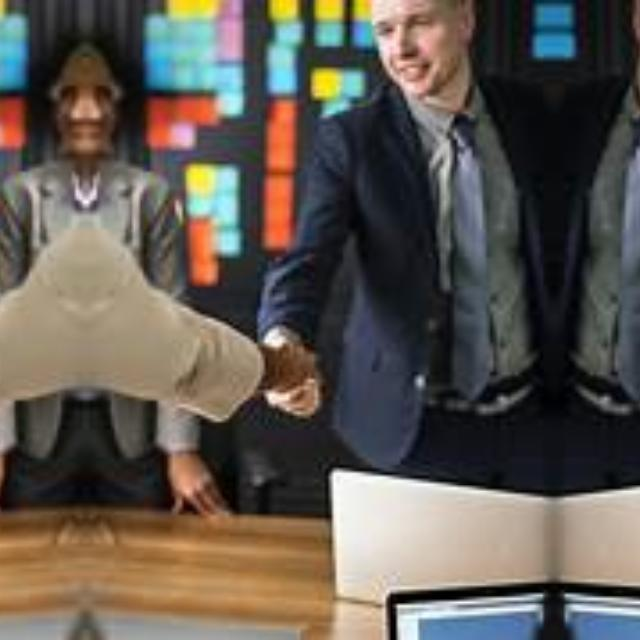person: (282, 1, 530, 430), (576, 0, 640, 429)
